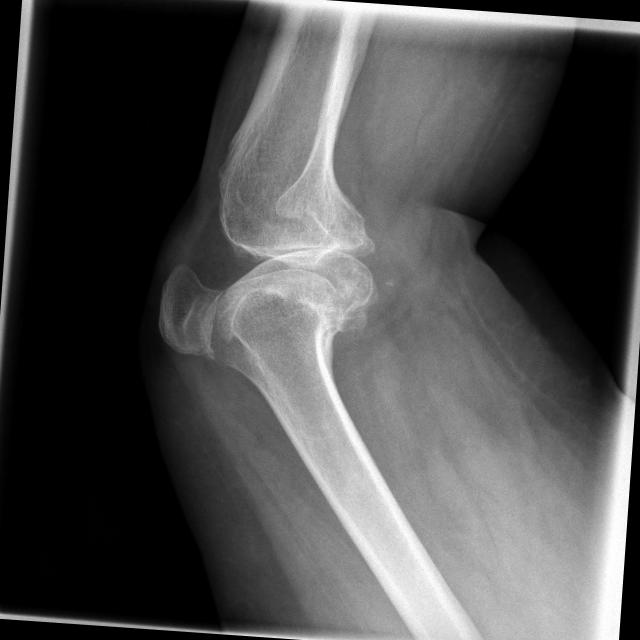Knee: (152, 180, 381, 374)
